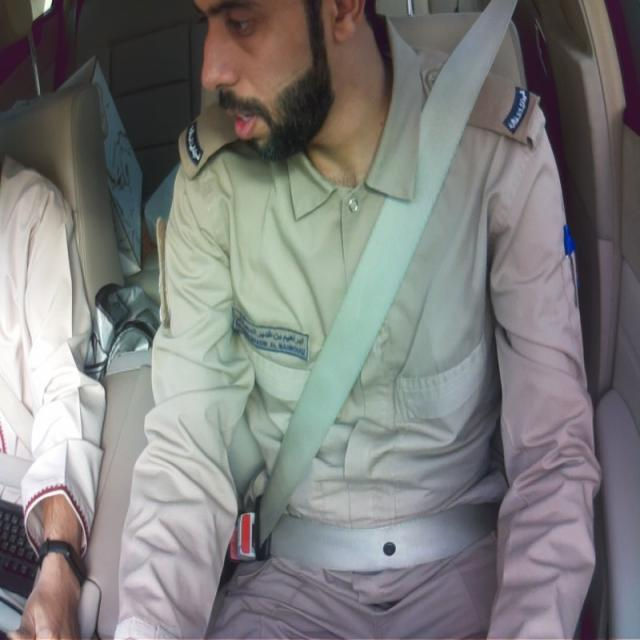seatbelt: (235, 0, 515, 571)
